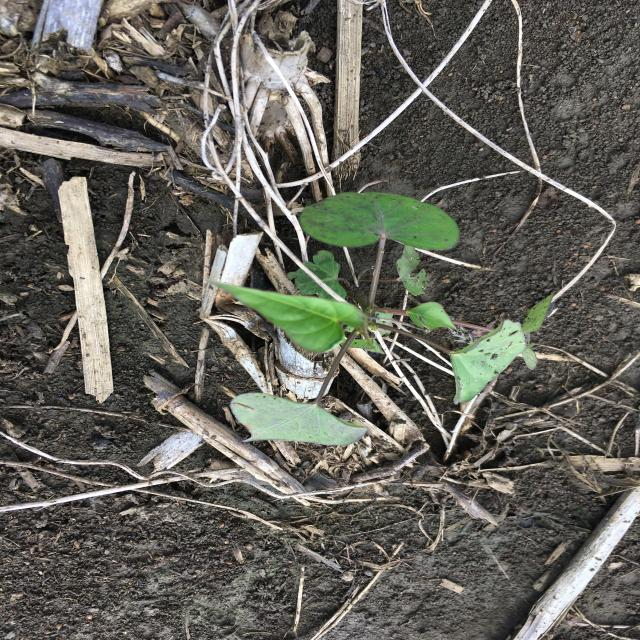MorningGlory: (203, 189, 557, 448)
